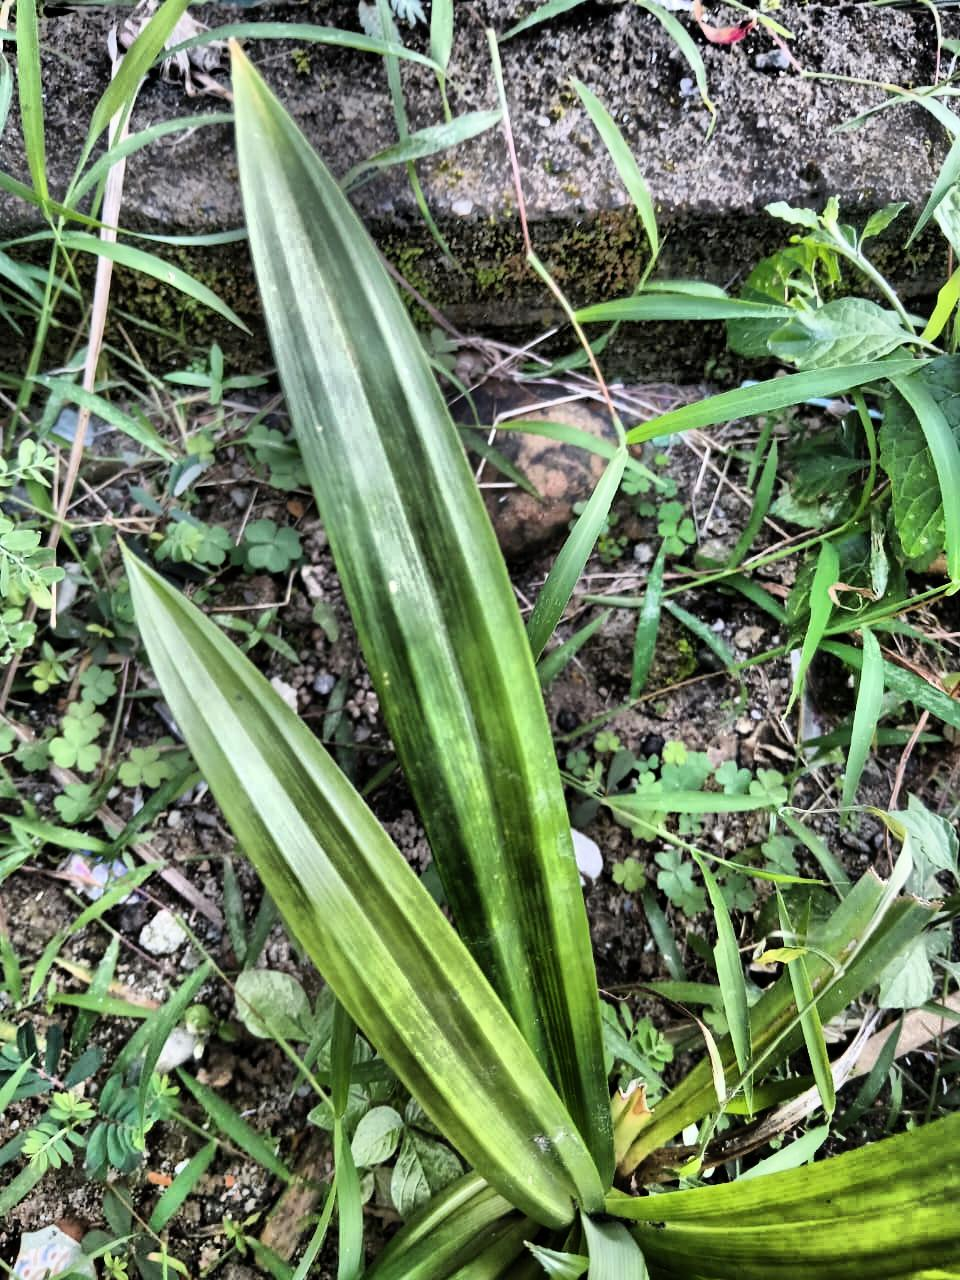daun pandan: (122, 42, 959, 1279)
